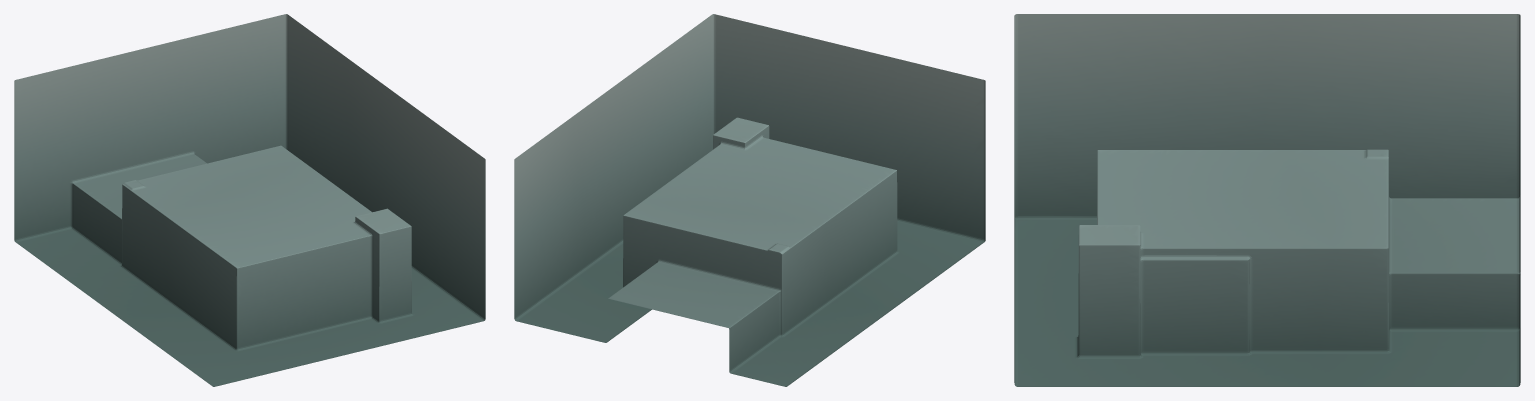
Rendered from drowned_nave_col.glb.
3 views of the same model, side by side, from view 1: azimuth 30°, elevation 25°; view 2: azimuth 150°, elevation 25°; view 3: azimuth 270°, elevation 25° (orthographic). The views are drawn at different scales.
Parts seen in each view (by area): view 1: geometry_0; view 2: geometry_0; view 3: geometry_0.
Part boxes in pixels (bbox=[...]): geometry_0: bbox=[14, 14, 485, 386]; geometry_0: bbox=[514, 14, 985, 386]; geometry_0: bbox=[1014, 14, 1520, 386].
Bounding box in the file's own units: 130 × 73.78 × 165.
